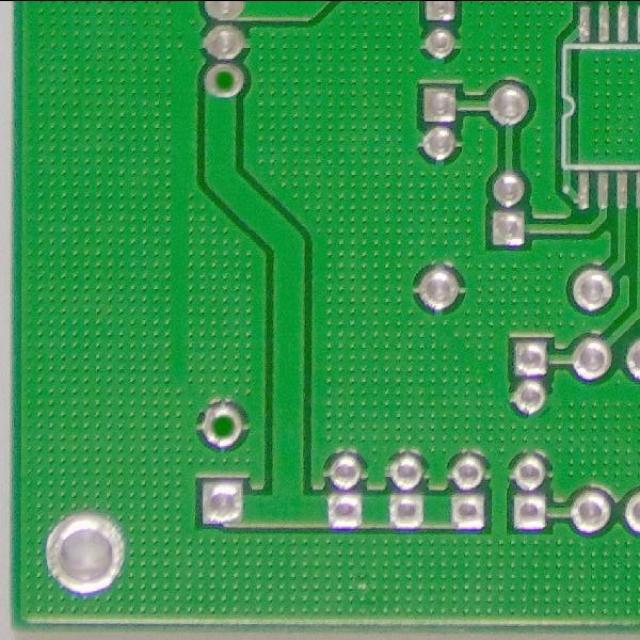Missing_Hole: (194, 400, 251, 451), (197, 58, 251, 102)
